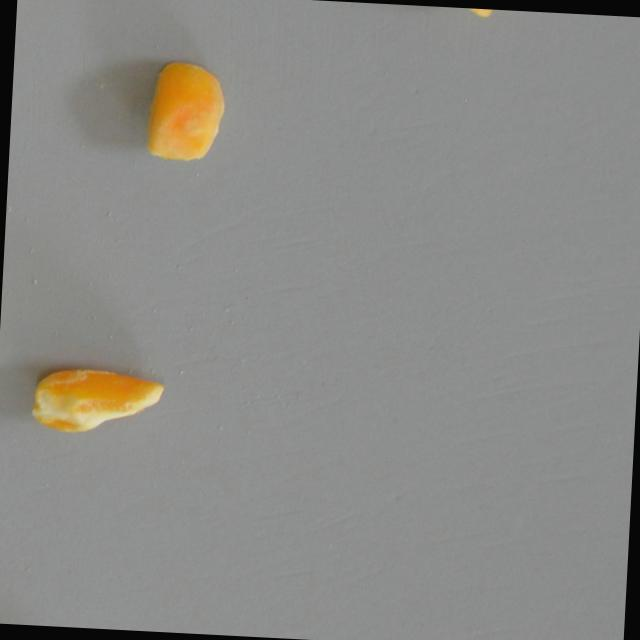pelicula: (26, 365, 166, 438), (144, 58, 228, 164), (422, 5, 506, 21)
